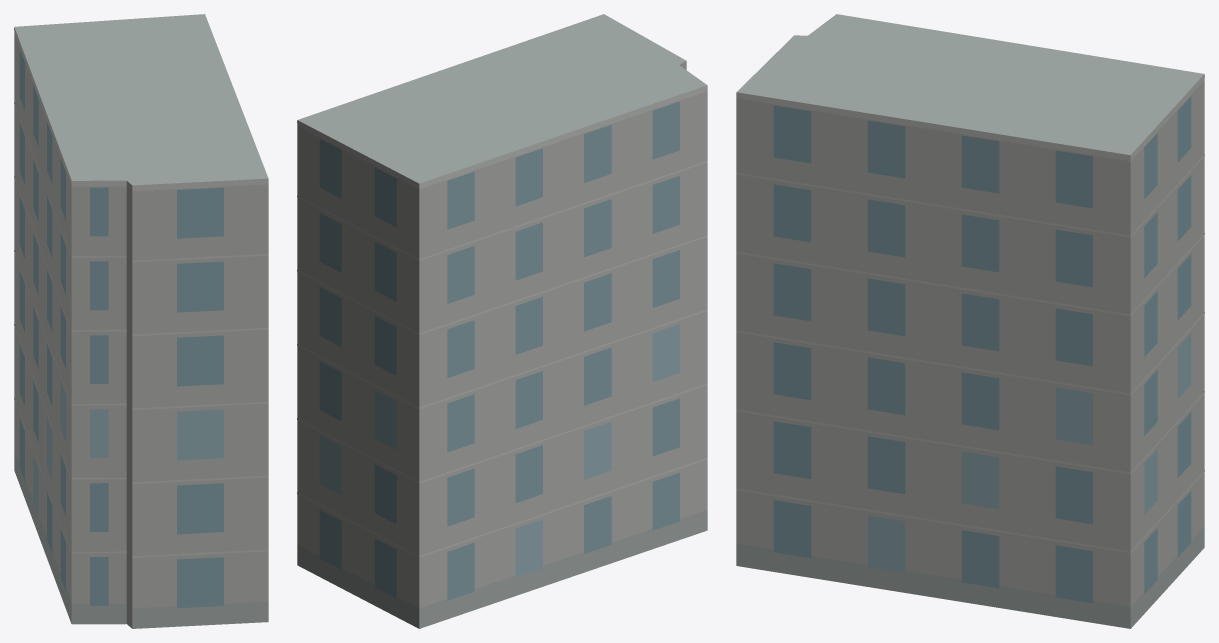
Rendered from survey-upis-32512960.glb.
3 renders of one model, left to right at view 1: azimuth 30°, elevation 25°; view 2: azimuth 150°, elevation 25°; view 3: azimuth 270°, elevation 25°, orthographic. The views are drawn at different scales.
Visible parts, largest first — view 1: survey-upis-32512960.tmp; view 2: survey-upis-32512960.tmp; view 3: survey-upis-32512960.tmp.
Part boxes in pixels (x1,y1,x2,y2): survey-upis-32512960.tmp: (14,14,268,628); survey-upis-32512960.tmp: (297,14,707,628); survey-upis-32512960.tmp: (736,14,1204,628).
Size of the model in its own units: 11.85 by 18.5 by 16.59.
